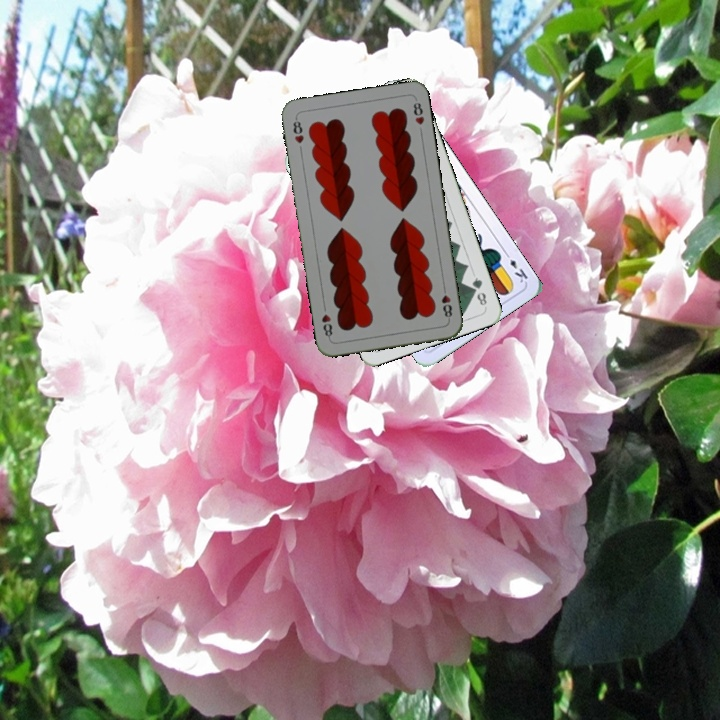EK: (500, 248, 530, 286)
G8: (468, 273, 489, 310)
H8: (437, 282, 455, 323), (289, 114, 306, 146)
